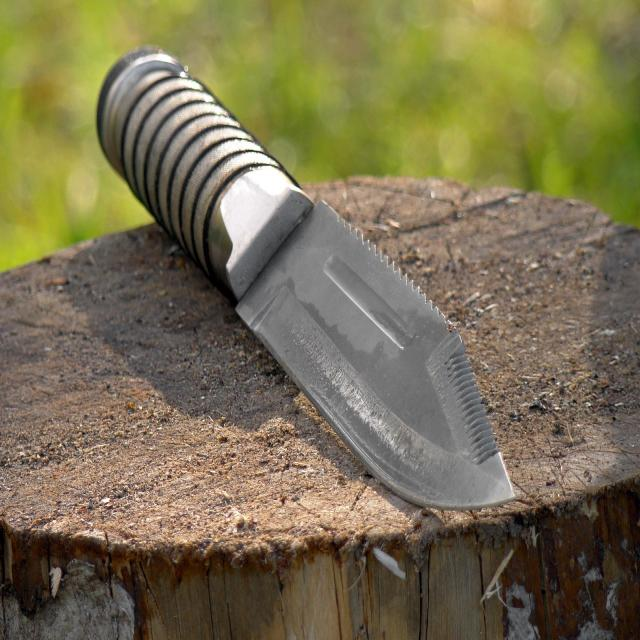Knife: (96, 47, 514, 509)
